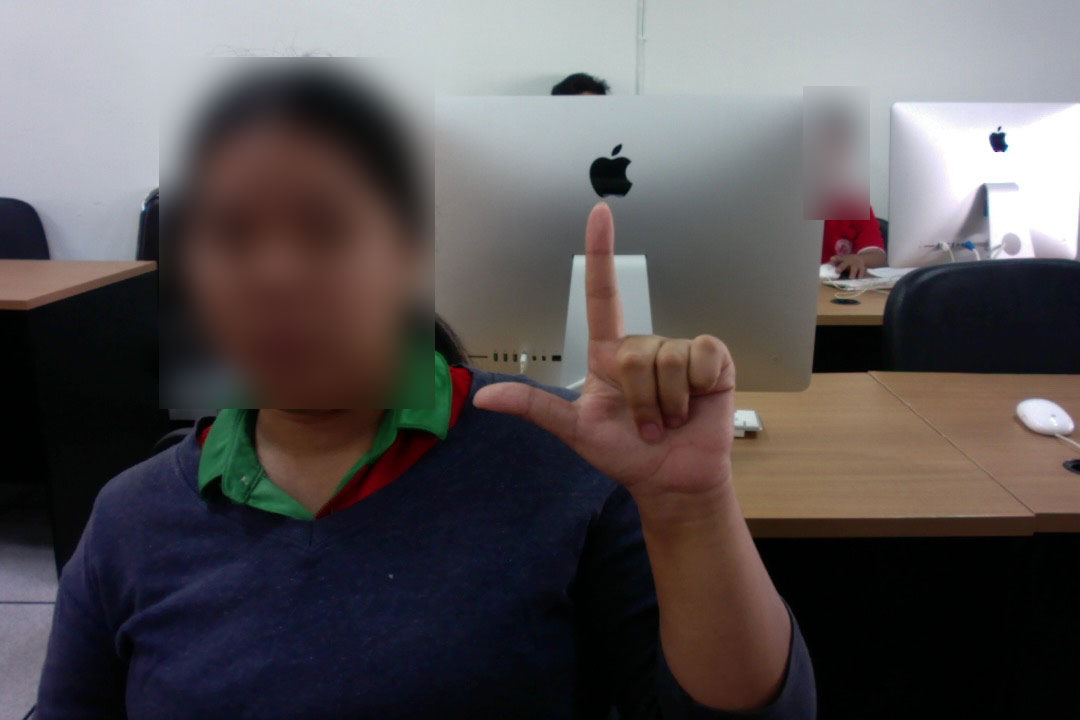lor: (461, 189, 757, 516)
